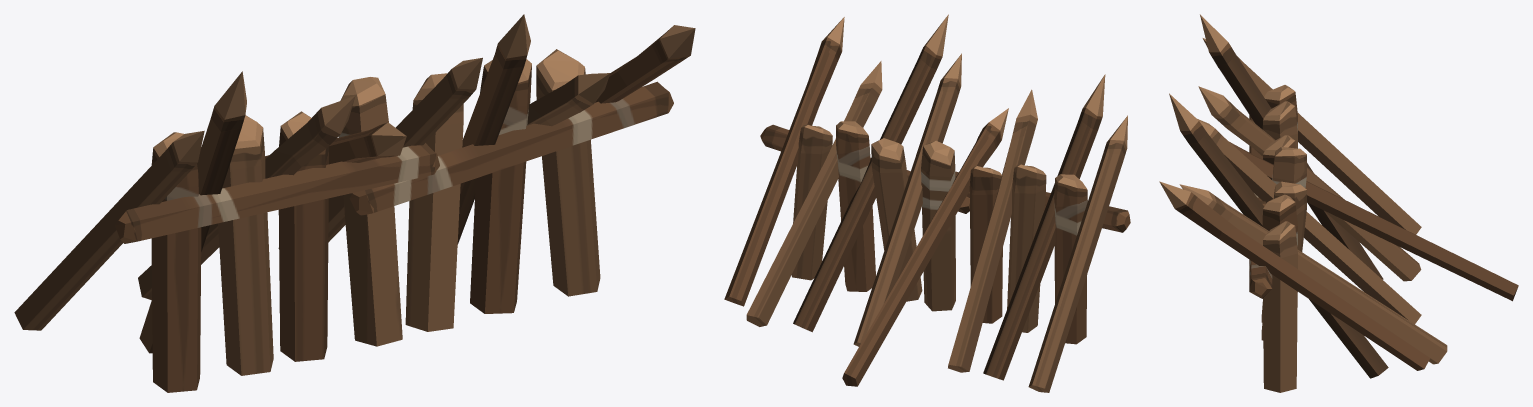
File: bog_spikes.gltf
The picture shows the model from 3 angles, left to right: view 1: azimuth 30°, elevation 25°; view 2: azimuth 150°, elevation 25°; view 3: azimuth 270°, elevation 25°; orthographic projection. The views are drawn at different scales.
Parts seen in each view (by area): view 1: bog_spikes; view 2: bog_spikes; view 3: bog_spikes.
Part boxes in pixels (box(x1,y1,x2,y2)): bog_spikes: box(14, 14, 695, 392); bog_spikes: box(724, 14, 1130, 392); bog_spikes: box(1159, 14, 1518, 392).
Size of the model in its own units: 2.77 by 1.88 by 2.3.
Materials: 1 (1 with a texture image).
